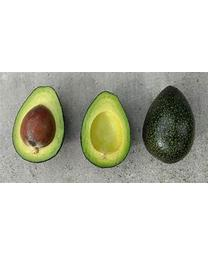avocado: (139, 85, 198, 164), (11, 83, 64, 164), (80, 90, 131, 168)
